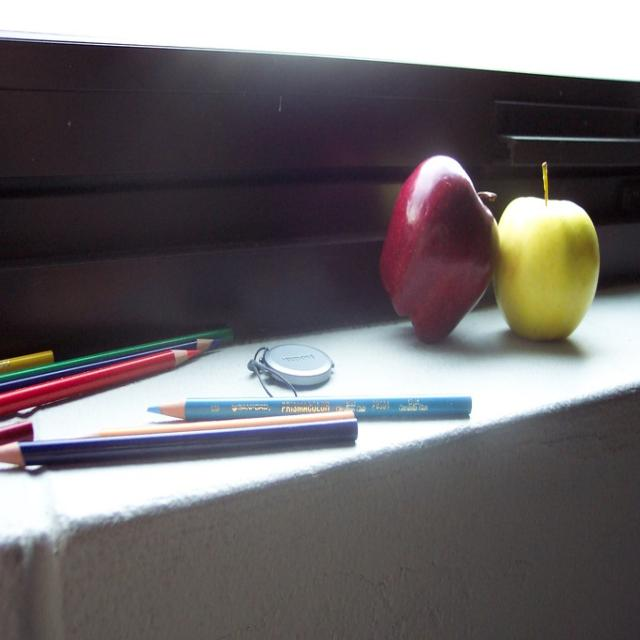Healty Apple: (380, 153, 500, 345), (494, 162, 602, 343)
